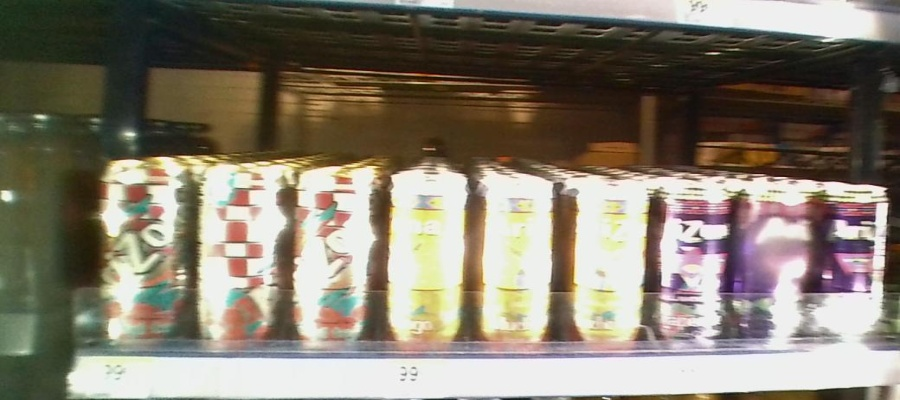bottle: (95, 139, 196, 350), (200, 137, 289, 353), (384, 144, 471, 355), (292, 144, 378, 355), (474, 161, 561, 352), (568, 168, 651, 355), (740, 169, 821, 357), (655, 171, 736, 351), (826, 166, 890, 357)
